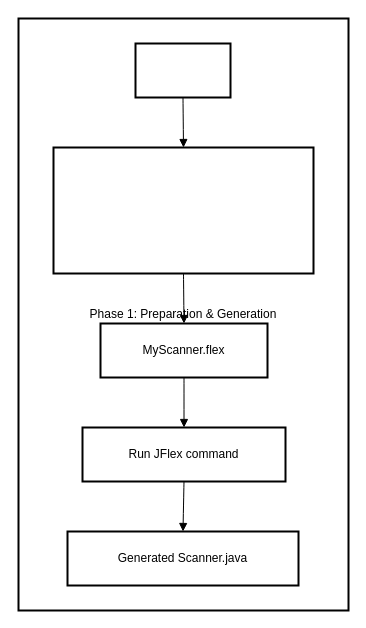
Image size: 366x628. Some labels were removed from this diagram. Here are the shapes that lost their labels. From the top down, the centre of each, then its label:
At pixel 182 70: "Start".
At pixel 183 210: "Developer prepares source files (Main.java, Token.java, test_*.txt)".
